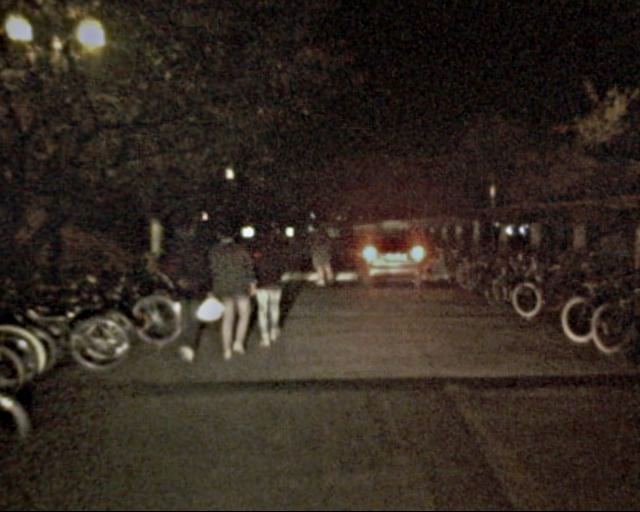person: (160, 209, 209, 360), (215, 225, 256, 363), (250, 229, 291, 349), (310, 223, 337, 288)
